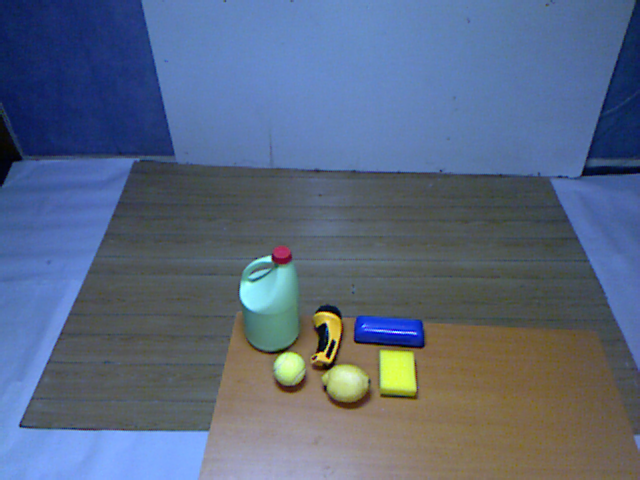borrador: (349, 311, 432, 353)
cloroplano: (235, 245, 306, 358)
esponja: (373, 345, 422, 403)
limon: (315, 359, 375, 410)
linterna: (306, 300, 348, 373)
pelota: (270, 347, 308, 391)
